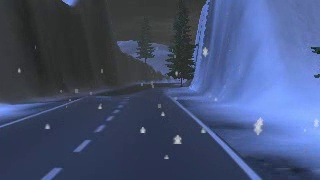Lane: (0, 82, 258, 179)
